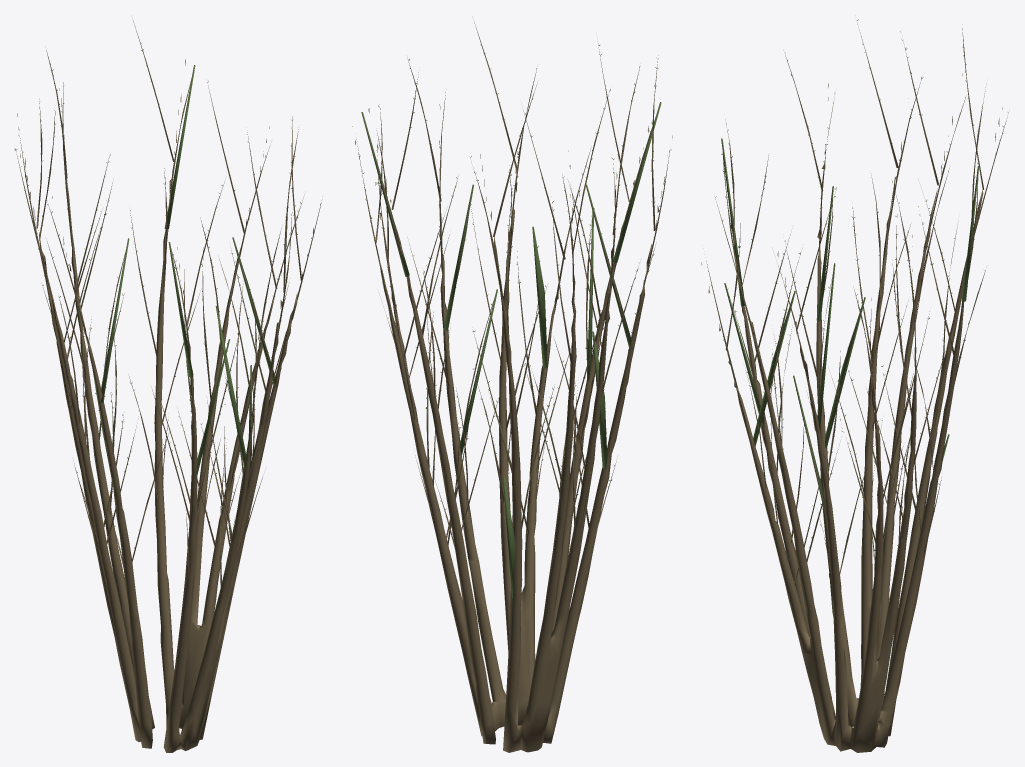
Rendered from BruyereBalais_0_Niveau0.fbx.
3 views of the same model, side by side, from view 1: azimuth 30°, elevation 25°; view 2: azimuth 150°, elevation 25°; view 3: azimuth 270°, elevation 25° (orthographic). The views are drawn at different scales.
Parts seen in each view (by area): view 1: BruyereBalais_0_Niveau0; view 2: BruyereBalais_0_Niveau0; view 3: BruyereBalais_0_Niveau0.
Boxes of the visible parts, box(x1,y1,x2,y2) form: BruyereBalais_0_Niveau0: box(14, 20, 322, 752); BruyereBalais_0_Niveau0: box(352, 21, 672, 752); BruyereBalais_0_Niveau0: box(701, 19, 1008, 752).
Size of the model in its own units: 56.45 by 135 by 55.42.
